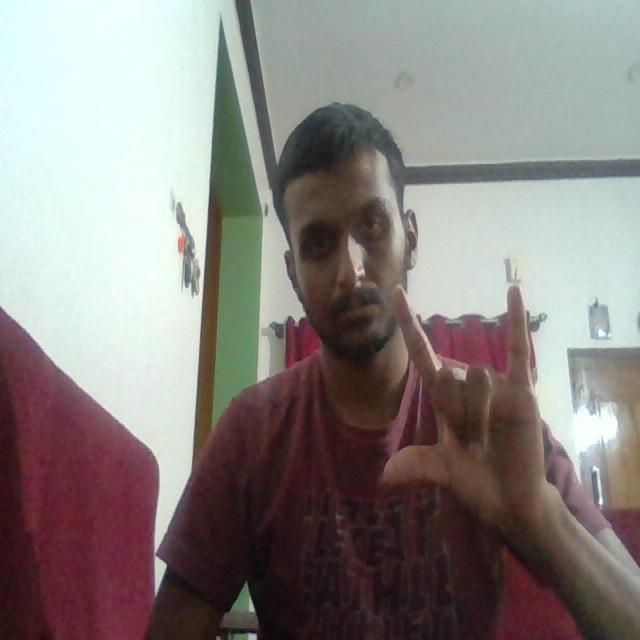iloveyou: (324, 278, 549, 518)
